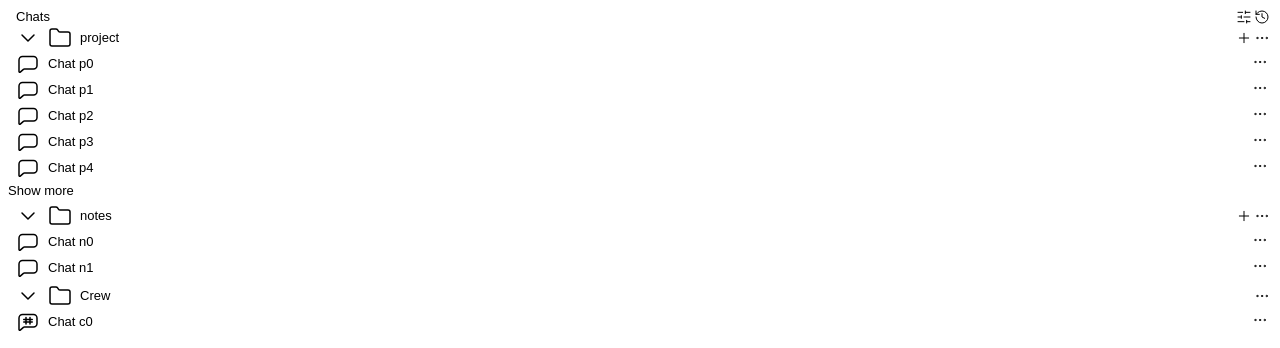
Scenario: Group by Folder › closes the folder that holds the current chat when its header is clicked, and opens it again
Expected: the button with test id "recent-chat-p0" is shown, [8,52,1272,76]
Click the button "project": (100, 38) [8,26,1236,50]
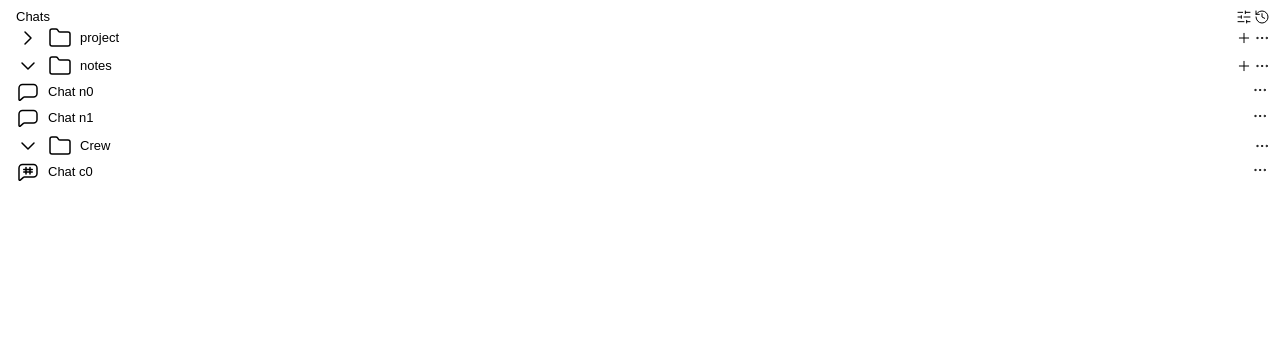
Expected: the button with test id "recent-chat-p0" is gone
Click the button "project": (100, 38) [8,26,1236,50]
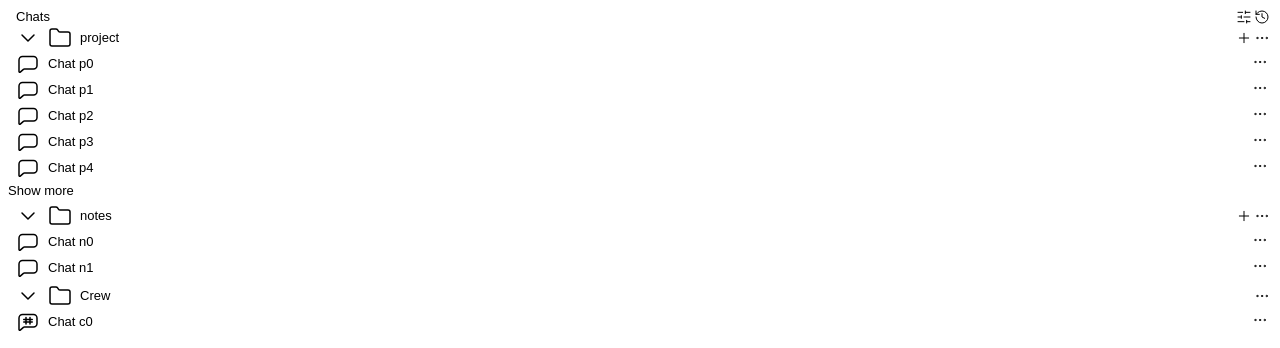
Expected: the button with test id "recent-chat-p0" is shown, [8,52,1272,76]
